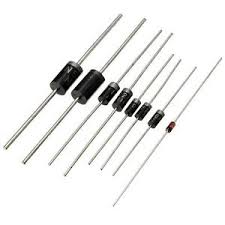diode: (37, 46, 84, 96)
